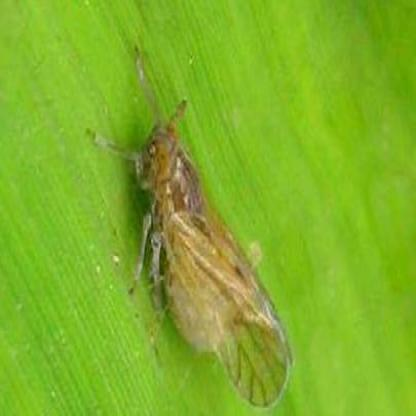brown-planthopper: (128, 108, 294, 410)
